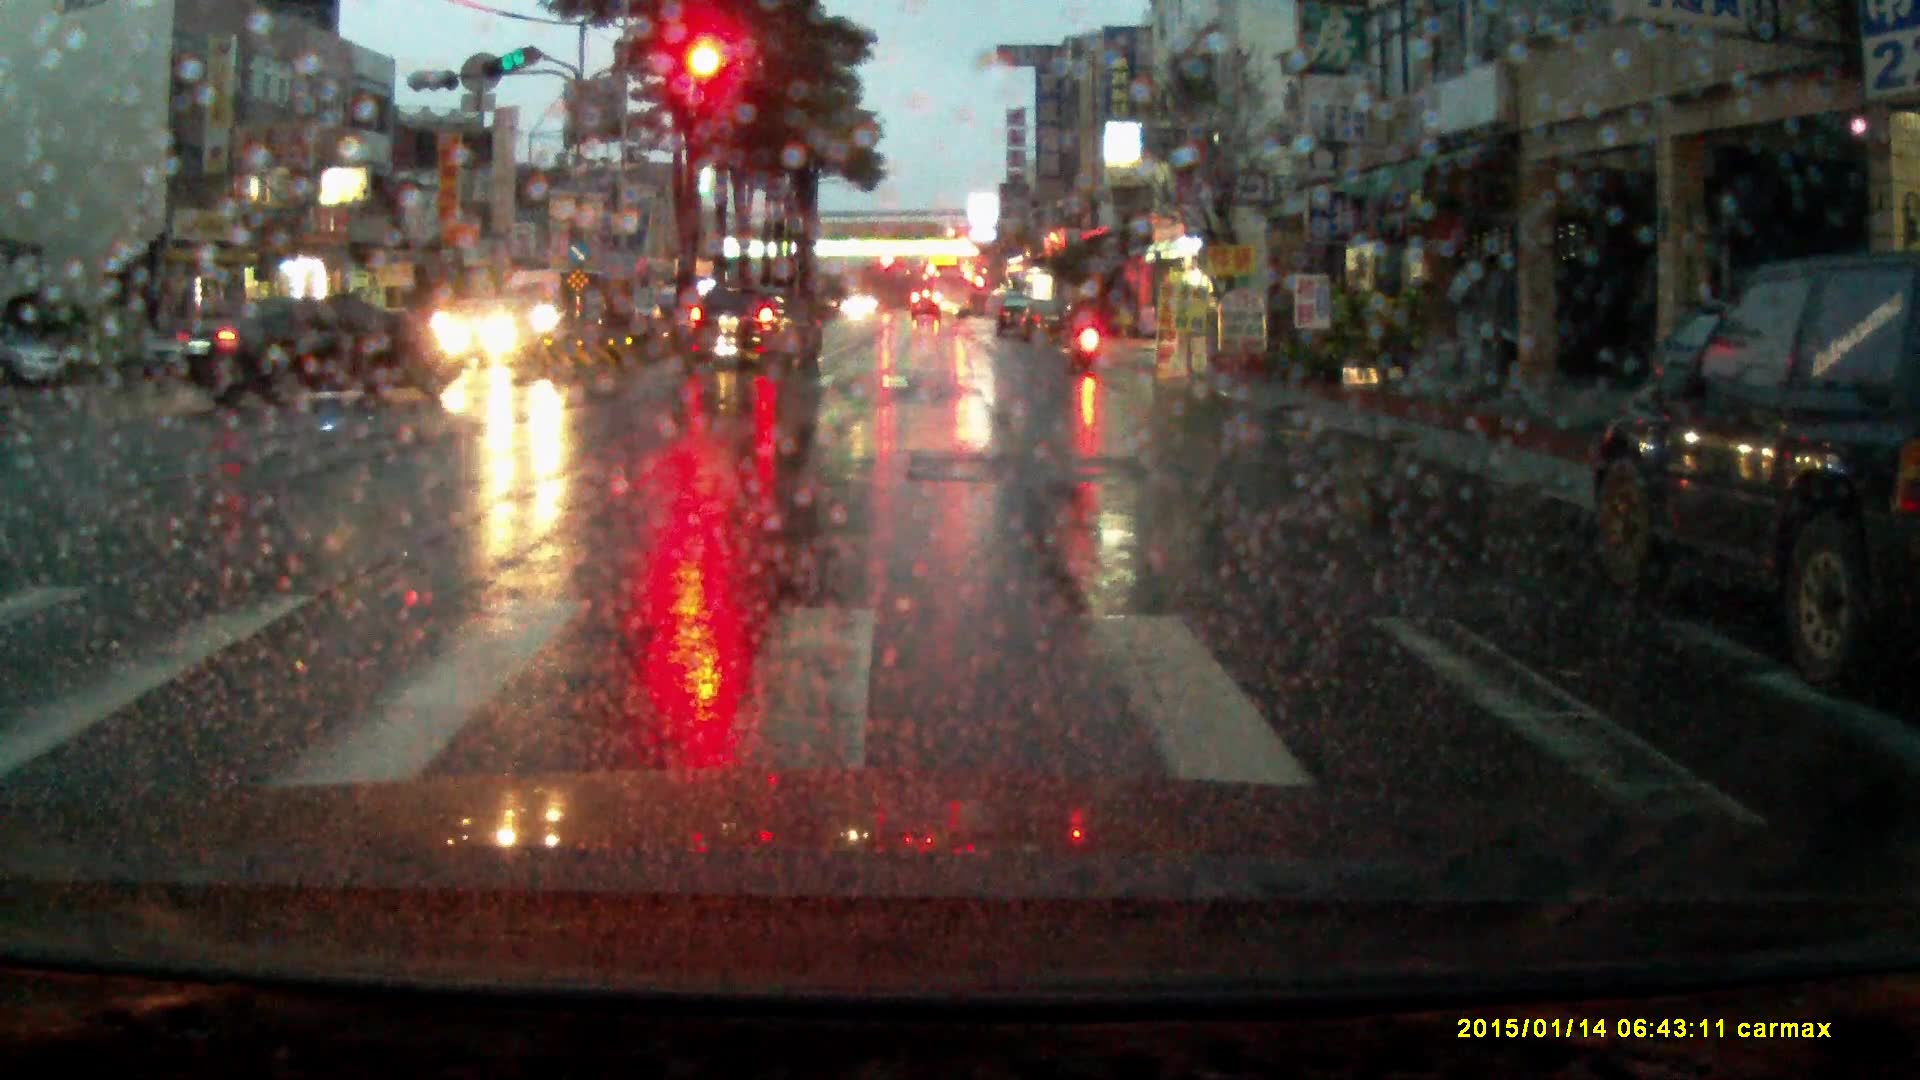rider: (1064, 278, 1111, 373)
vehicle: (1582, 248, 1920, 683), (172, 296, 475, 407), (683, 284, 813, 373), (431, 298, 546, 370), (494, 268, 591, 341), (574, 288, 664, 340), (1017, 300, 1079, 346), (931, 264, 973, 321), (995, 295, 1030, 338), (911, 291, 943, 322)
